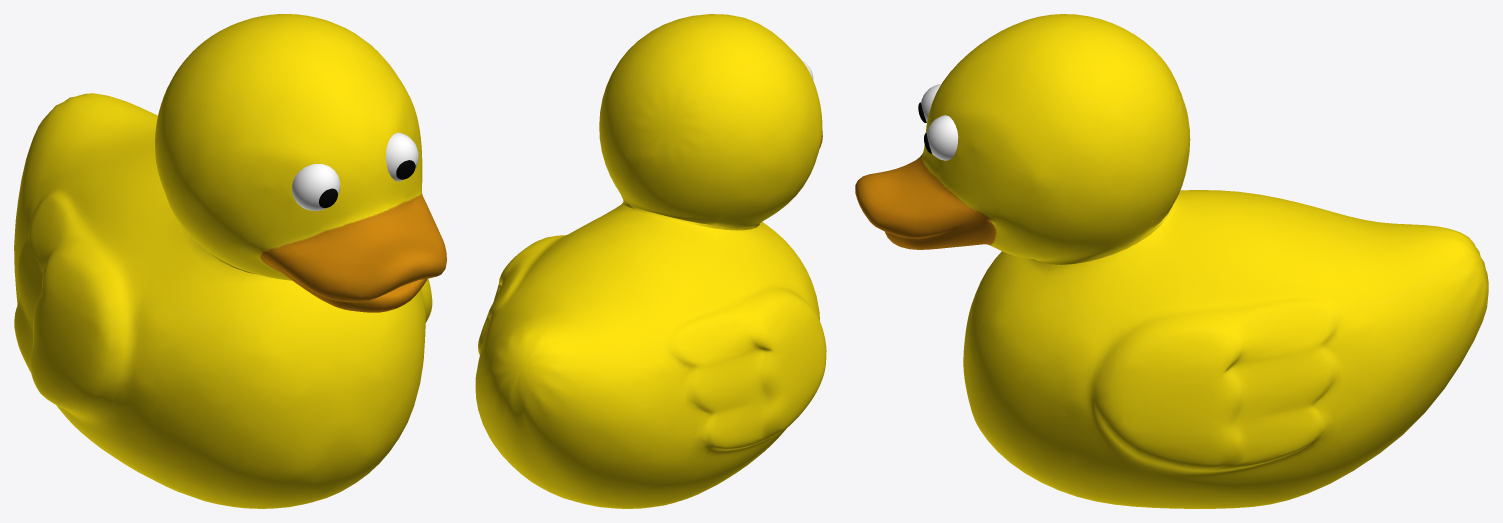
Rendered from DUCKY .fbx.
3 views of the same model, side by side, from view 1: azimuth 30°, elevation 25°; view 2: azimuth 150°, elevation 25°; view 3: azimuth 270°, elevation 25° (orthographic). The views are drawn at different scales.
Visible parts, largest first — view 1: D_Default_1; view 2: D_Default_1; view 3: D_Default_1.
Boxes of the visible parts, x1,y1,x2,y2 form: D_Default_1: [14, 14, 446, 508]; D_Default_1: [475, 14, 826, 508]; D_Default_1: [855, 14, 1488, 508].
Bounding box in the file's own units: 301 × 399 × 498.
